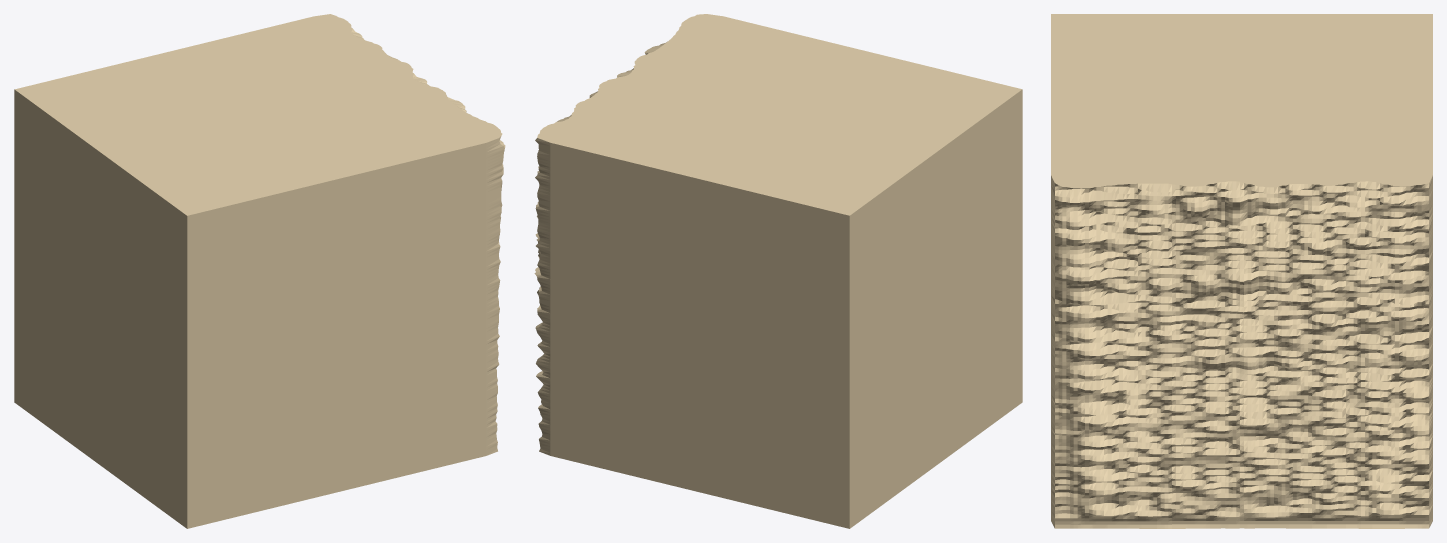
File: lat5.png.obj
3 views of the same model, side by side, from view 1: azimuth 30°, elevation 25°; view 2: azimuth 150°, elevation 25°; view 3: azimuth 270°, elevation 25° (orthographic). The views are drawn at different scales.
Visible parts, largest first — view 1: Cube; view 2: Cube; view 3: Cube.
Boxes of the visible parts, left/top/right/bottom form: Cube: left=14, top=14, right=505, bottom=528; Cube: left=534, top=14, right=1022, bottom=528; Cube: left=1051, top=14, right=1432, bottom=528.
Size of the model in its own units: 1.09 by 1 by 1.
